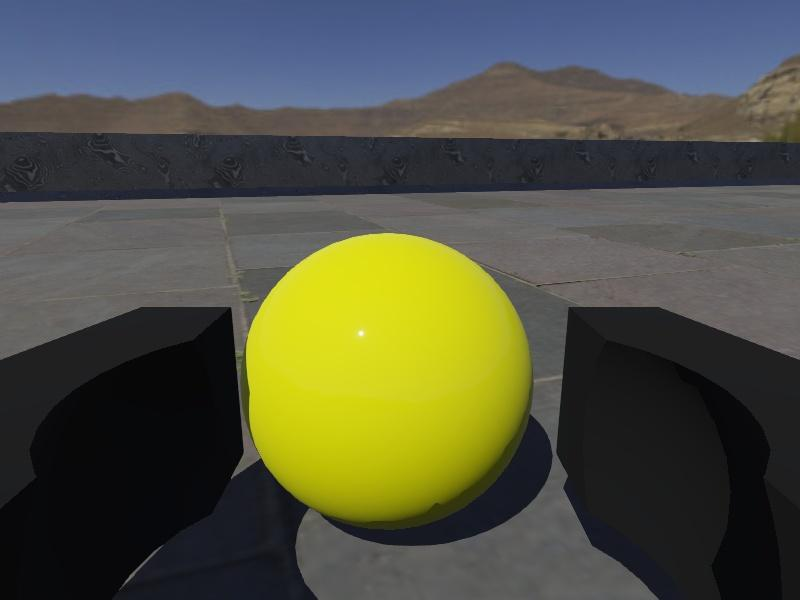yellow ball: (239, 232, 534, 532)
